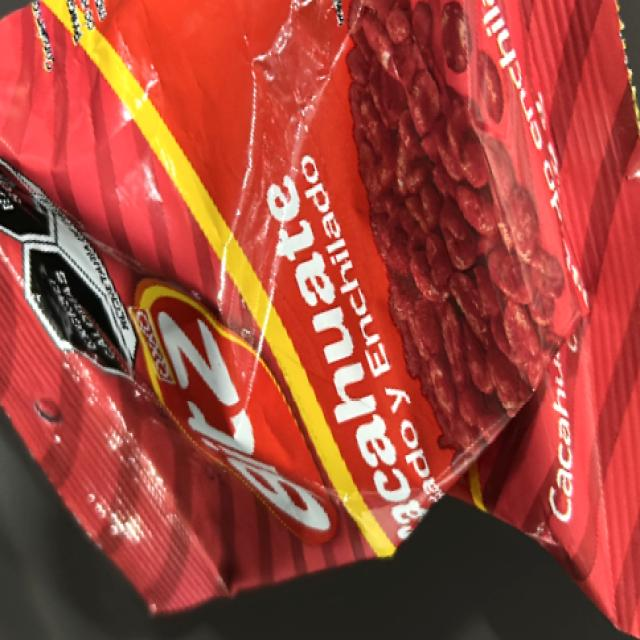bitzEnchilado90: (4, 21, 623, 538)
